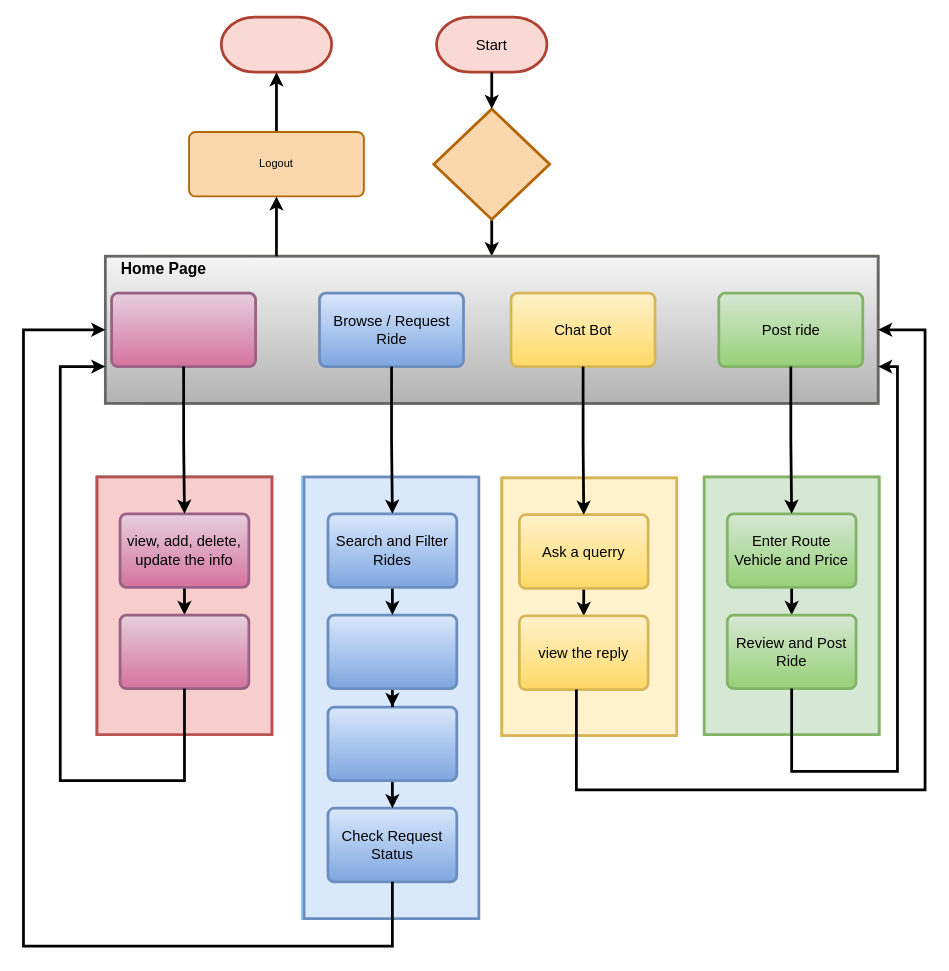
Some shapes in this 949 by 971 pixel diagram are drawn without their labels. Here are the shapes that lost their labels. From the top down, the box of each, then its label:
(219, 15, 333, 73): End
(432, 107, 551, 220): Signup / Sign in
(110, 291, 256, 368): Manage Profile
(118, 613, 250, 690): add ,deleate update info
(326, 613, 458, 690): Select a Ride
(326, 705, 458, 782): Request Seats
